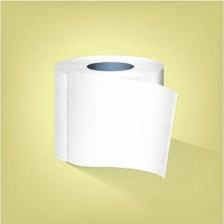tissue: (48, 48, 182, 184)
